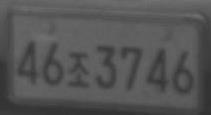3: (94, 46, 116, 87)
4: (146, 48, 170, 91), (17, 41, 39, 84)
6: (172, 52, 195, 93), (42, 43, 63, 85)
7: (120, 46, 143, 90)
조: (68, 51, 90, 88)
